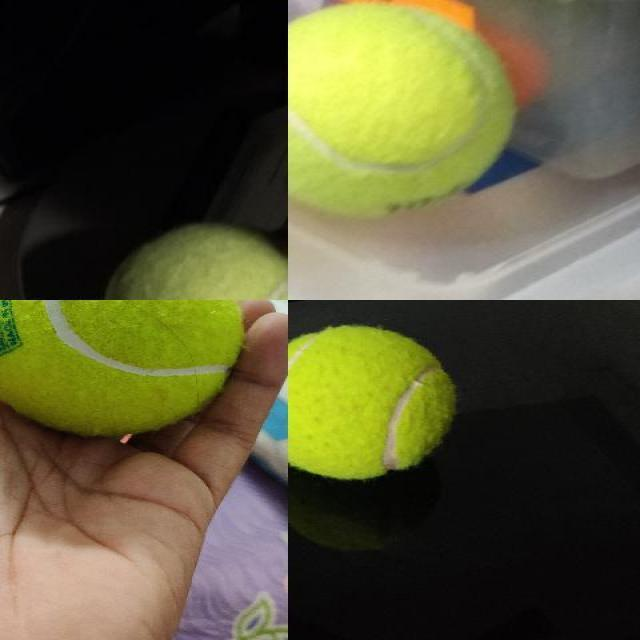tennis-ball: (288, 2, 518, 219), (0, 300, 245, 438), (288, 323, 458, 479), (100, 219, 286, 299)
